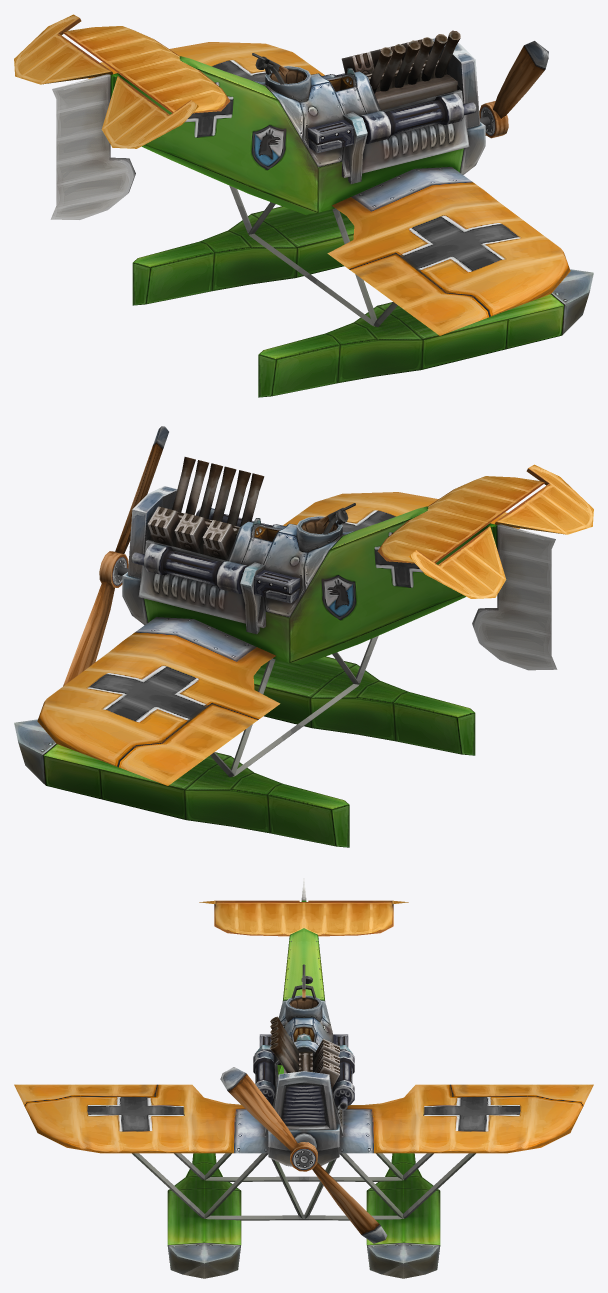
The picture shows the model from 3 angles, top to bottom: view 1: azimuth 30°, elevation 25°; view 2: azimuth 150°, elevation 25°; view 3: azimuth 270°, elevation 25°; orthographic projection. The views are drawn at different scales.
Visible parts, largest first — view 1: HansaBrandenburg; view 2: HansaBrandenburg; view 3: HansaBrandenburg.
Boxes of the visible parts, x1,y1,x2,y2 form: HansaBrandenburg: [14, 14, 593, 397]; HansaBrandenburg: [14, 426, 593, 847]; HansaBrandenburg: [14, 878, 593, 1278].
Bounding box in the file's own units: 0.7381 × 0.451 × 0.9735.
